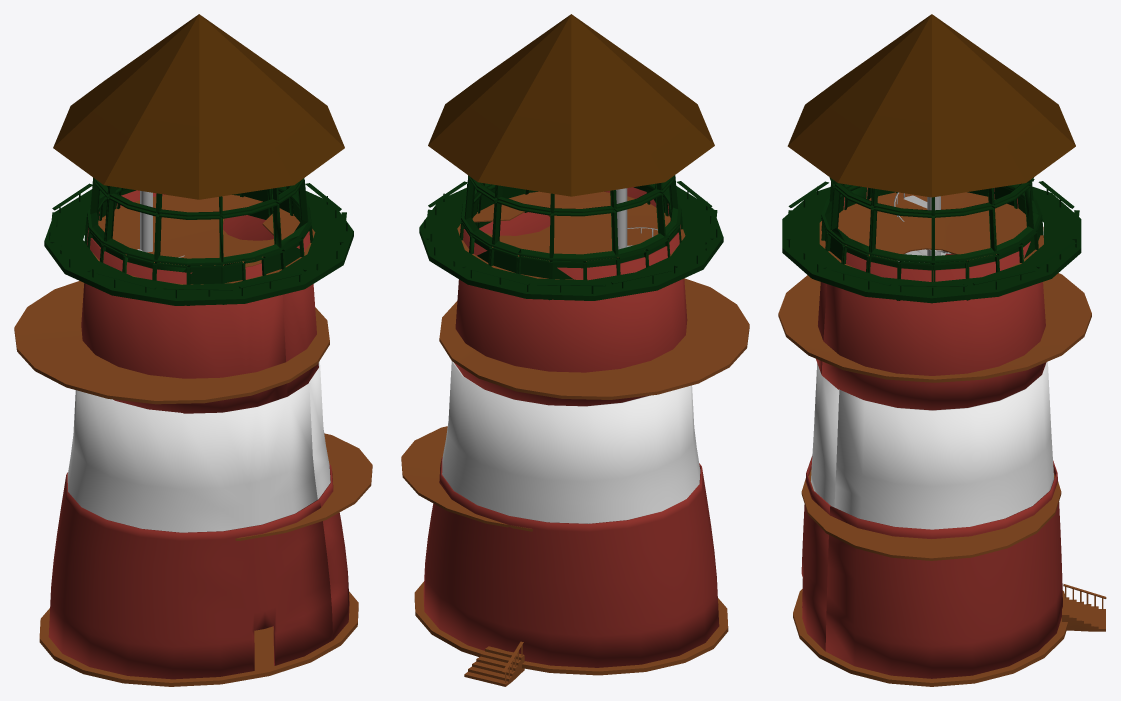
The model's file is LightHouse.fbx.
The picture shows the model from 3 angles, left to right: view 1: azimuth 30°, elevation 25°; view 2: azimuth 150°, elevation 25°; view 3: azimuth 270°, elevation 25°; orthographic projection.
Visible parts, largest first — view 1: defaultMaterial.008, defaultMaterial.003, defaultMaterial.007, defaultMaterial.006, defaultMaterial.010, defaultMaterial.004, defaultMaterial.005, defaultMaterial.009, defaultMaterial.012, floor_3.001, defaultMaterial, staircase_2_to_5; view 2: defaultMaterial.008, defaultMaterial.003, defaultMaterial.007, defaultMaterial.006, defaultMaterial.010, defaultMaterial.004, defaultMaterial.005, defaultMaterial.009, floor_3.001, defaultMaterial.012, defaultMaterial, stair_entrance (+1 smaller); view 3: defaultMaterial.008, defaultMaterial.003, defaultMaterial.007, defaultMaterial.006, defaultMaterial.004, defaultMaterial.005, defaultMaterial.010, defaultMaterial.009, floor_3.001, defaultMaterial.012, defaultMaterial, stair_entrance (+1 smaller).
Part boxes in pixels (<box>): defaultMaterial.008: <box>48,464,349,679</box>; defaultMaterial.003: <box>53,14,344,199</box>; defaultMaterial.007: <box>67,361,330,532</box>; defaultMaterial.006: <box>81,190,318,413</box>; defaultMaterial.010: <box>14,281,329,404</box>; defaultMaterial.004: <box>44,189,353,305</box>; defaultMaterial.005: <box>84,177,313,305</box>; defaultMaterial.009: <box>92,195,315,284</box>; defaultMaterial.012: <box>39,591,358,686</box>; floor_3.001: <box>235,433,372,540</box>; defaultMaterial: <box>49,183,347,298</box>; staircase_2_to_5: <box>137,191,184,257</box>; defaultMaterial.008: <box>423,457,719,667</box>; defaultMaterial.003: <box>428,14,714,196</box>; defaultMaterial.007: <box>442,361,700,523</box>; defaultMaterial.006: <box>454,187,687,406</box>; defaultMaterial.010: <box>439,278,749,399</box>; defaultMaterial.004: <box>419,183,723,300</box>; defaultMaterial.005: <box>460,175,682,300</box>; defaultMaterial.009: <box>457,191,685,280</box>; floor_3.001: <box>401,426,532,531</box>; defaultMaterial.012: <box>414,582,728,675</box>; defaultMaterial: <box>424,181,717,293</box>; stair_entrance: <box>464,641,524,686</box>; defaultMaterial.008: <box>801,456,1062,678</box>; defaultMaterial.003: <box>787,14,1075,197</box>; defaultMaterial.007: <box>811,361,1054,529</box>; defaultMaterial.006: <box>816,187,1046,410</box>; defaultMaterial.004: <box>782,184,1081,303</box>; defaultMaterial.005: <box>821,177,1043,300</box>; defaultMaterial.010: <box>778,273,1091,382</box>; defaultMaterial.009: <box>819,192,1043,277</box>; floor_3.001: <box>801,468,1061,560</box>; defaultMaterial.012: <box>793,589,1067,686</box>; defaultMaterial: <box>786,179,1079,295</box>; stair_entrance: <box>1062,584,1106,631</box>.
Bounding box in the file's own units: 26.53 × 23.66 × 48.37.
7 materials, 2 textured.
